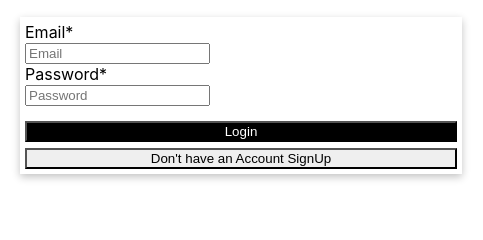
Test: Auth Component › toggles to registration form when clicking 'SignUp'
The width and height of the screenshot is (483, 240).
Click the button "Don't have an Account SignUp": (241, 159) [25,148,457,169]
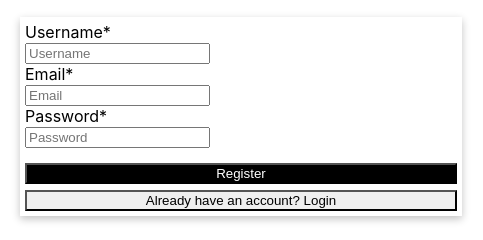
expect the button "Register" is shown: met, box [25,163,457,184]
expect the field with placeholder "Username" is shown: met, box [25,43,210,64]
expect the button "Already have an account? Login" is shown: met, box [25,190,457,211]
